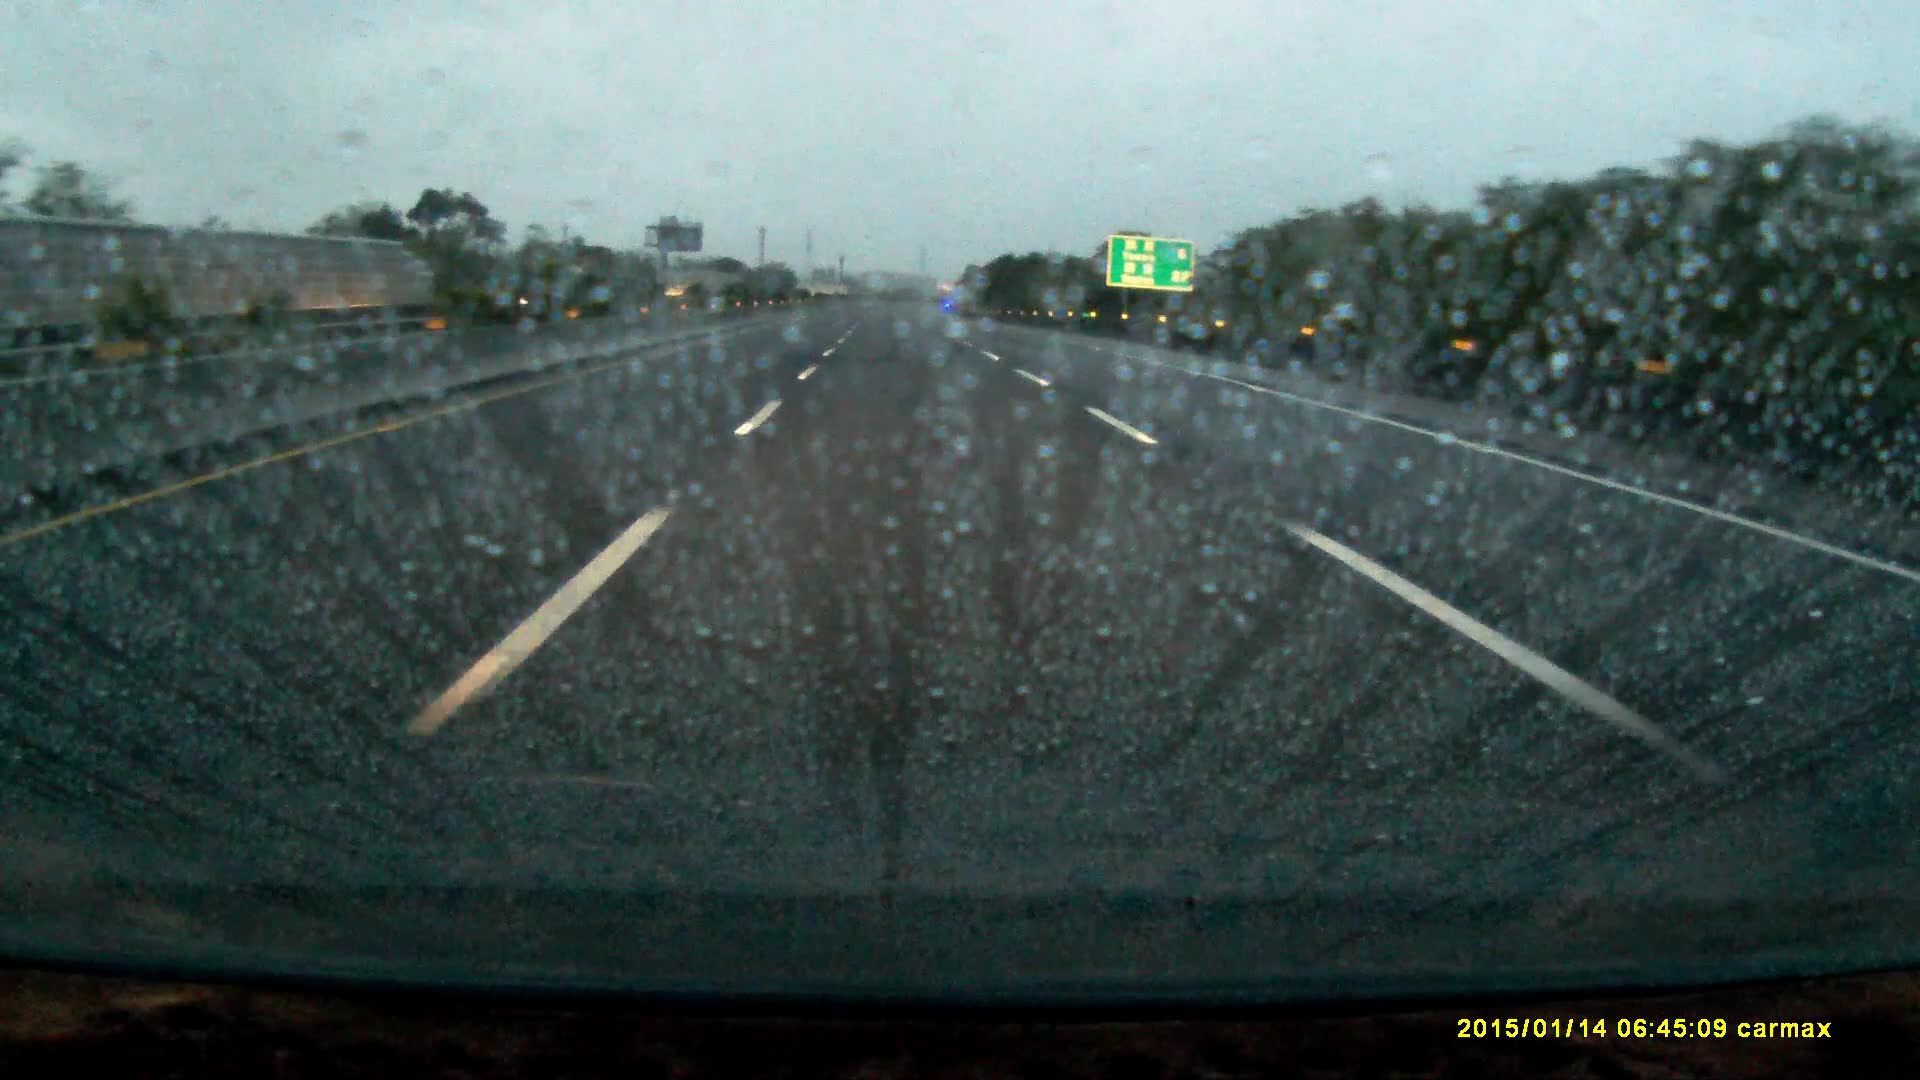vehicle: (520, 260, 609, 310)
